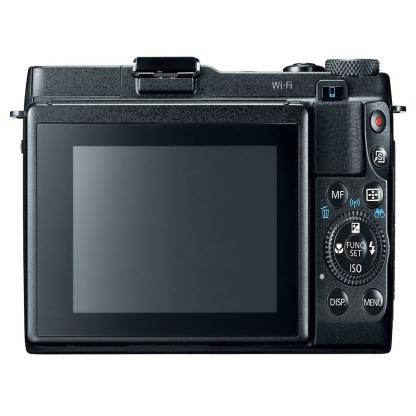Camera: (11, 57, 408, 356), (273, 57, 407, 198)
